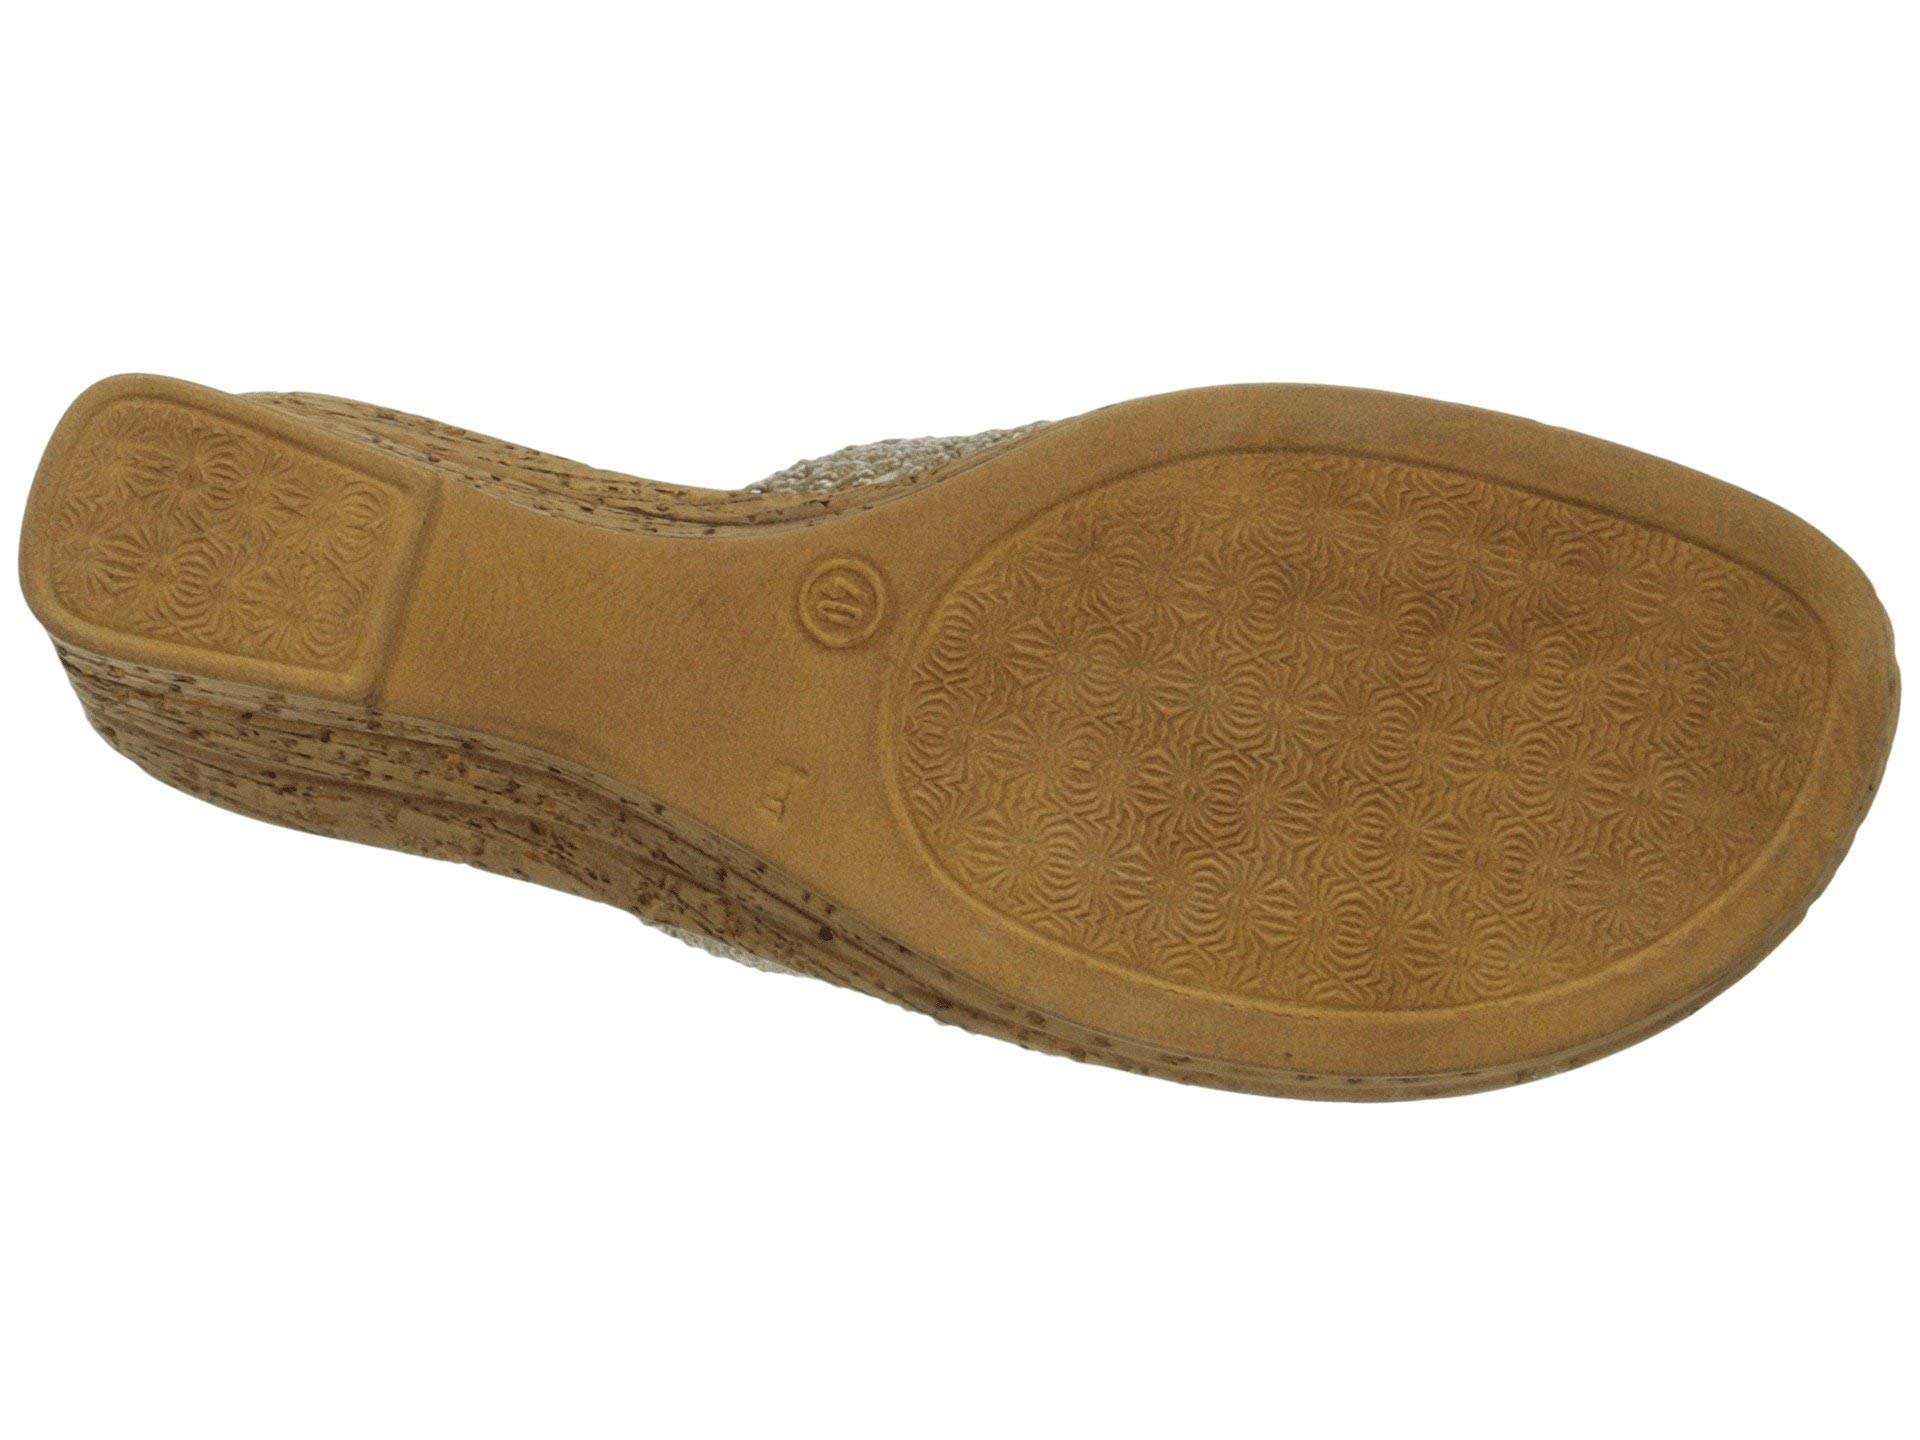circle: (756, 523, 912, 684)
text: (756, 523, 912, 684)
